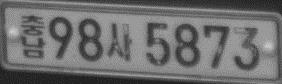3: (233, 26, 260, 70)
5: (146, 22, 171, 67)
7: (203, 24, 230, 69)
8: (77, 17, 103, 62), (174, 23, 200, 68)
9: (48, 15, 72, 59)
사: (107, 23, 132, 61)
충남_V: (21, 14, 46, 59)
